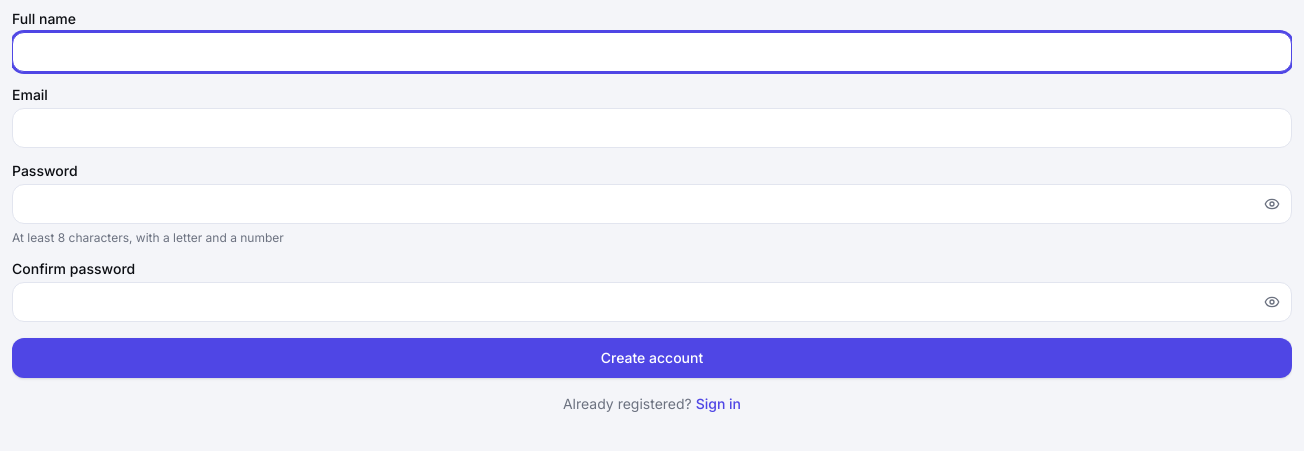
Test case: RegisterForm › puts a server-side duplicate-email error on the email field
Type "Tola Student" into the field labelled "Full name" at coordinates (652, 52), box x1=12 y1=32 x2=1292 y2=72
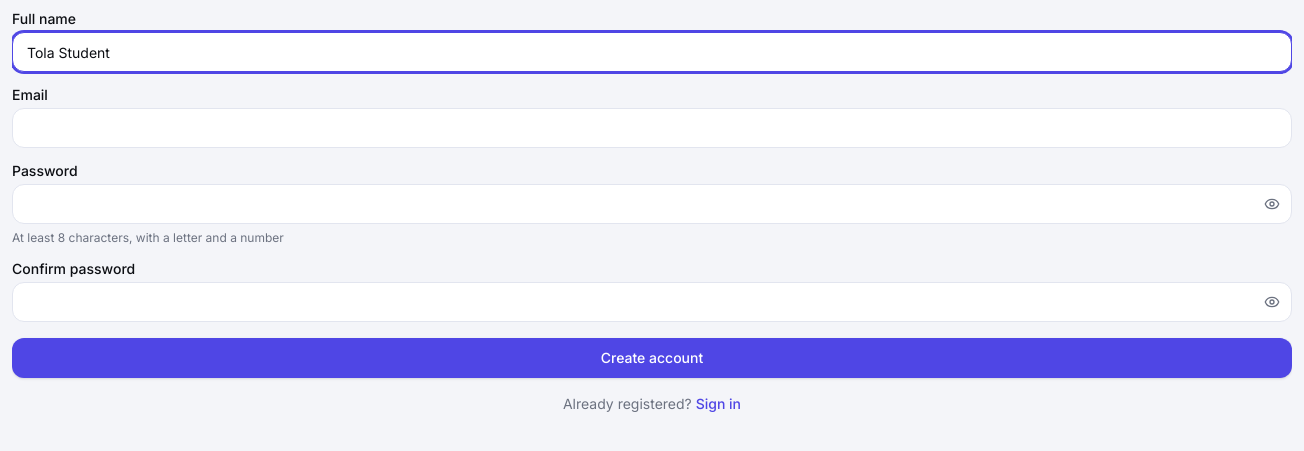
Type "tola@campus.edu" into the field labelled "Email" at coordinates (652, 128), box x1=12 y1=108 x2=1292 y2=148
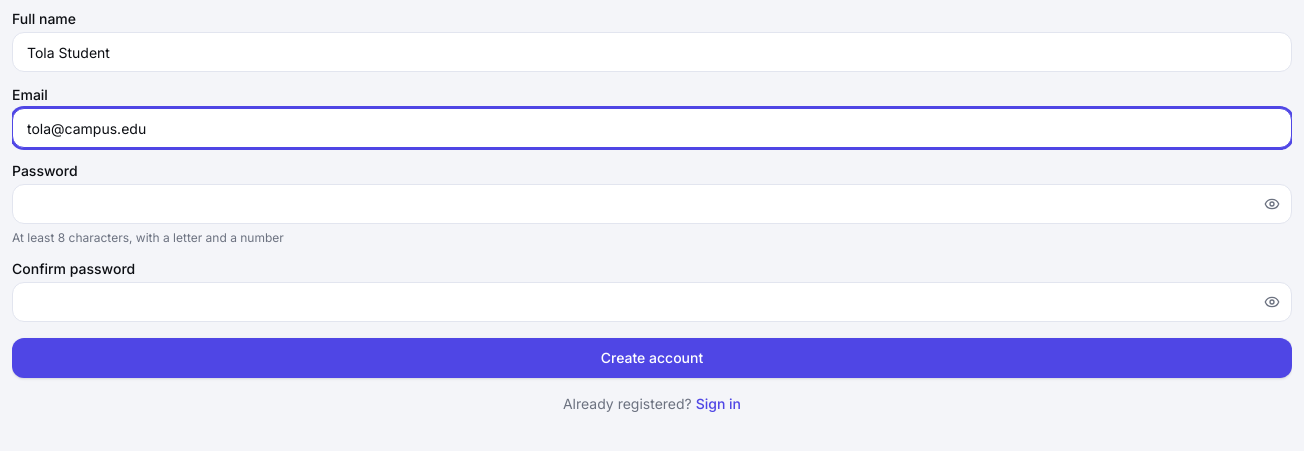
Type "Secret123" into the password field labelled "Password" at coordinates (652, 204), box x1=12 y1=184 x2=1292 y2=224
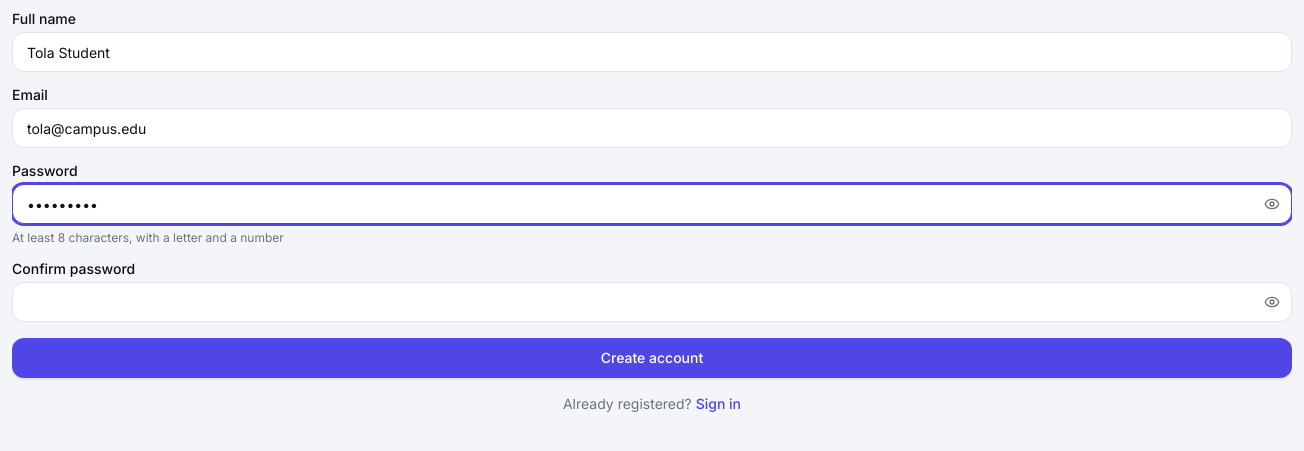
Type "Secret123" into the password field labelled "Confirm password" at coordinates (652, 302), box x1=12 y1=282 x2=1292 y2=322
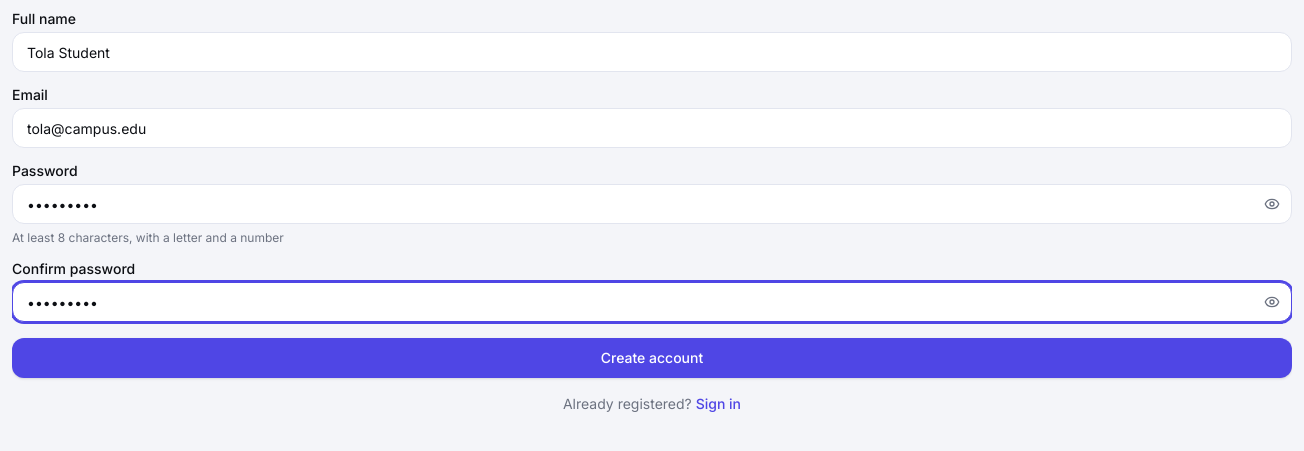
Click the button "Create account" at coordinates (652, 358), box x1=12 y1=338 x2=1292 y2=378
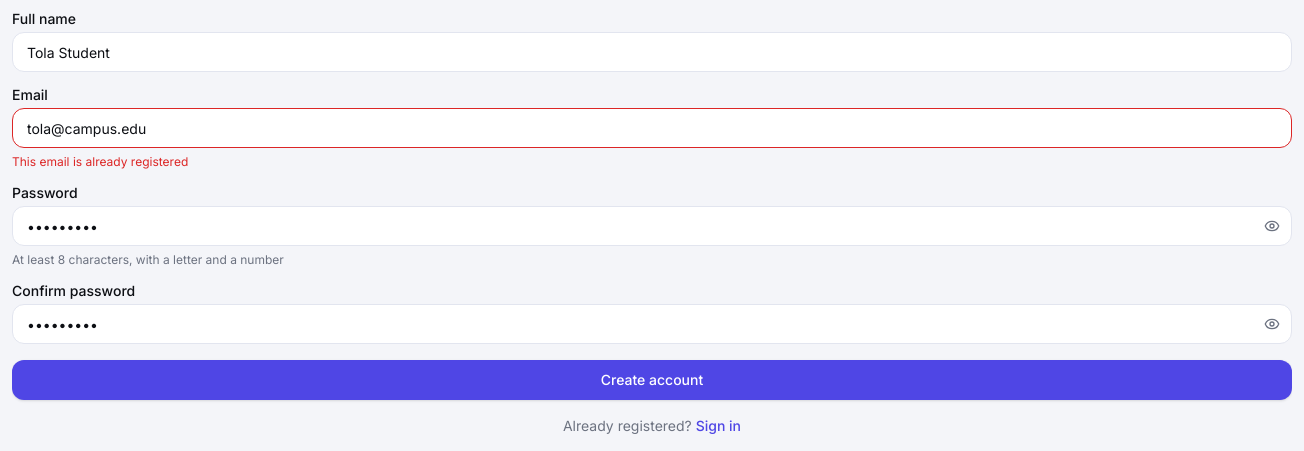
Check: the message shows "already registered", box x1=12 y1=154 x2=188 y2=169
